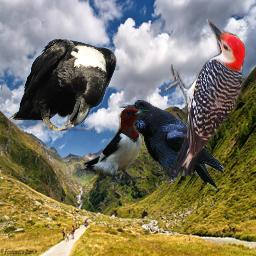Crow: (8, 36, 118, 134), (118, 99, 224, 191)
Woodpecker: (161, 18, 245, 176), (79, 107, 150, 183)
